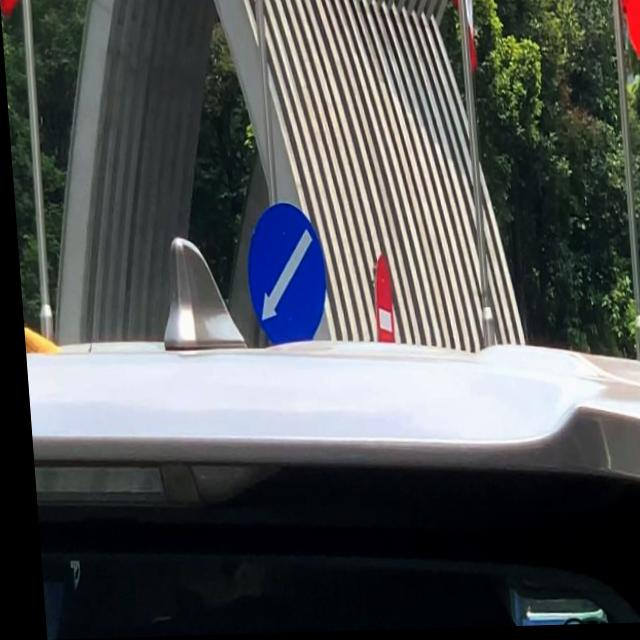Vong chuong ngai vat sang trai: (238, 195, 329, 349)
